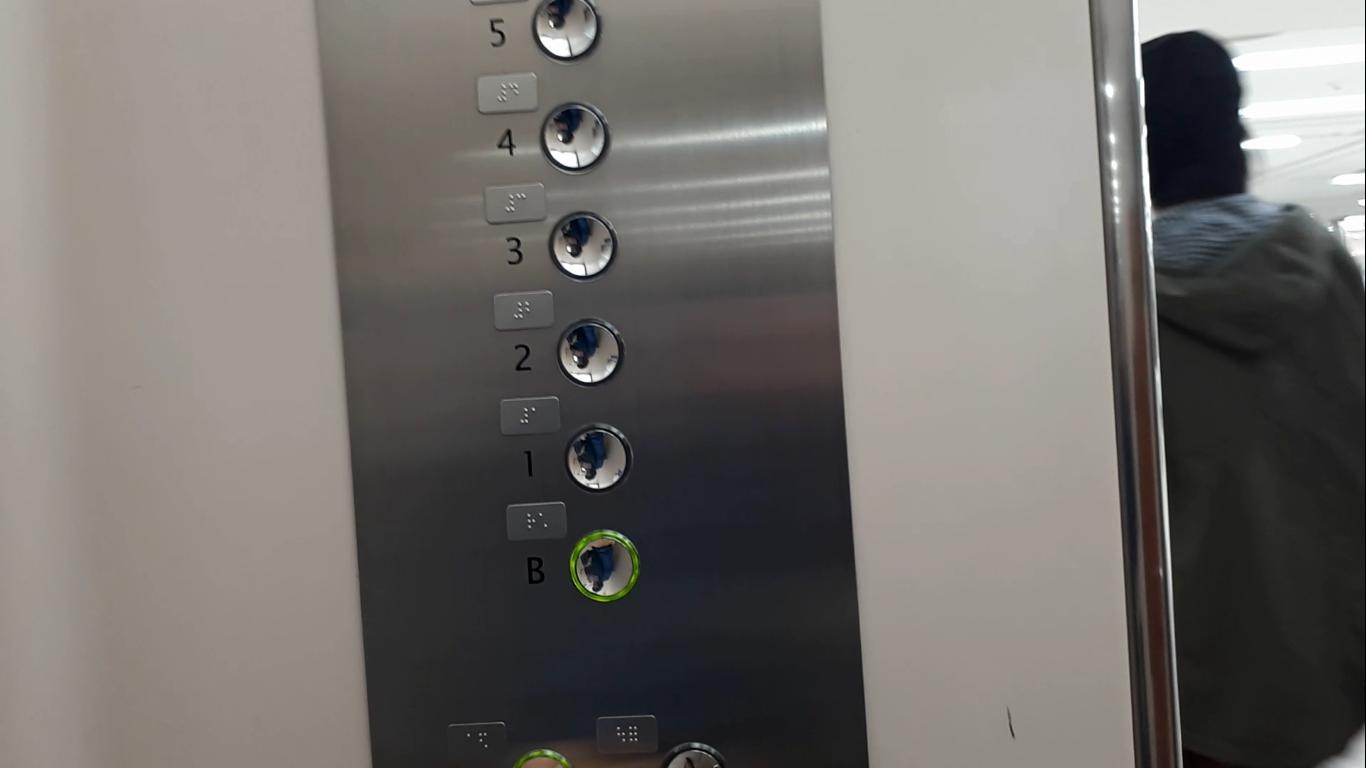1: (508, 414, 636, 506)
2: (504, 304, 630, 400)
3: (493, 197, 627, 290)
4: (476, 1, 609, 68)
5: (486, 89, 618, 182)
B: (512, 523, 646, 612)
